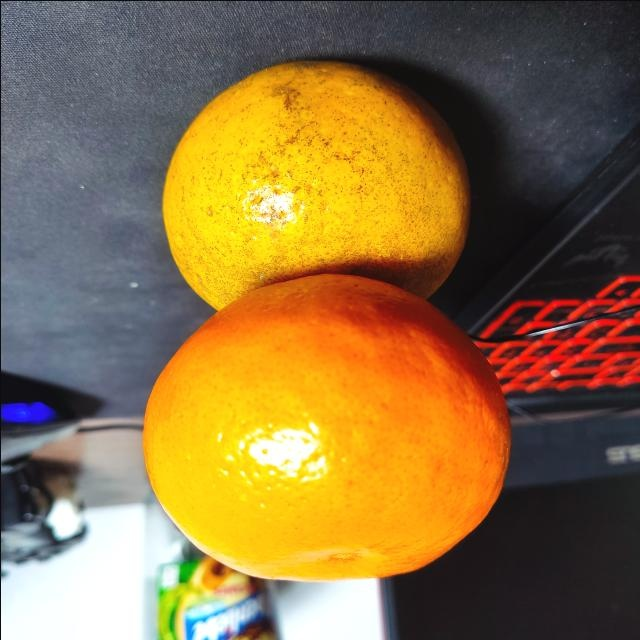agrume: (160, 61, 472, 311)
